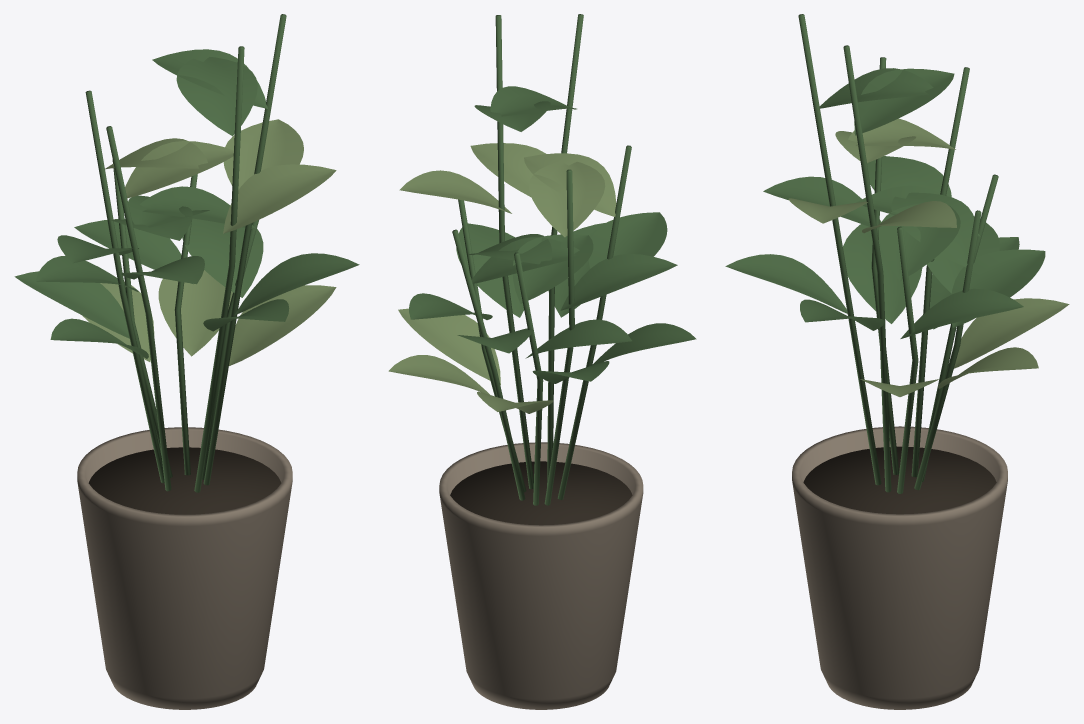
File: contemporary.plant.gltf
3 views of the same model, side by side, from view 1: azimuth 30°, elevation 25°; view 2: azimuth 150°, elevation 25°; view 3: azimuth 270°, elevation 25° (orthographic). The views are drawn at different scales.
Parts seen in each view (by area): view 1: contemporary.plant.pot; view 2: contemporary.plant.pot; view 3: contemporary.plant.pot.
Boxes of the visible parts, x1,y1,x2,y2 form: contemporary.plant.pot: (14,14,359,709); contemporary.plant.pot: (388,14,696,709); contemporary.plant.pot: (725,14,1069,709).
Size of the model in its own units: 0.3406 by 0.7205 by 0.3369.
